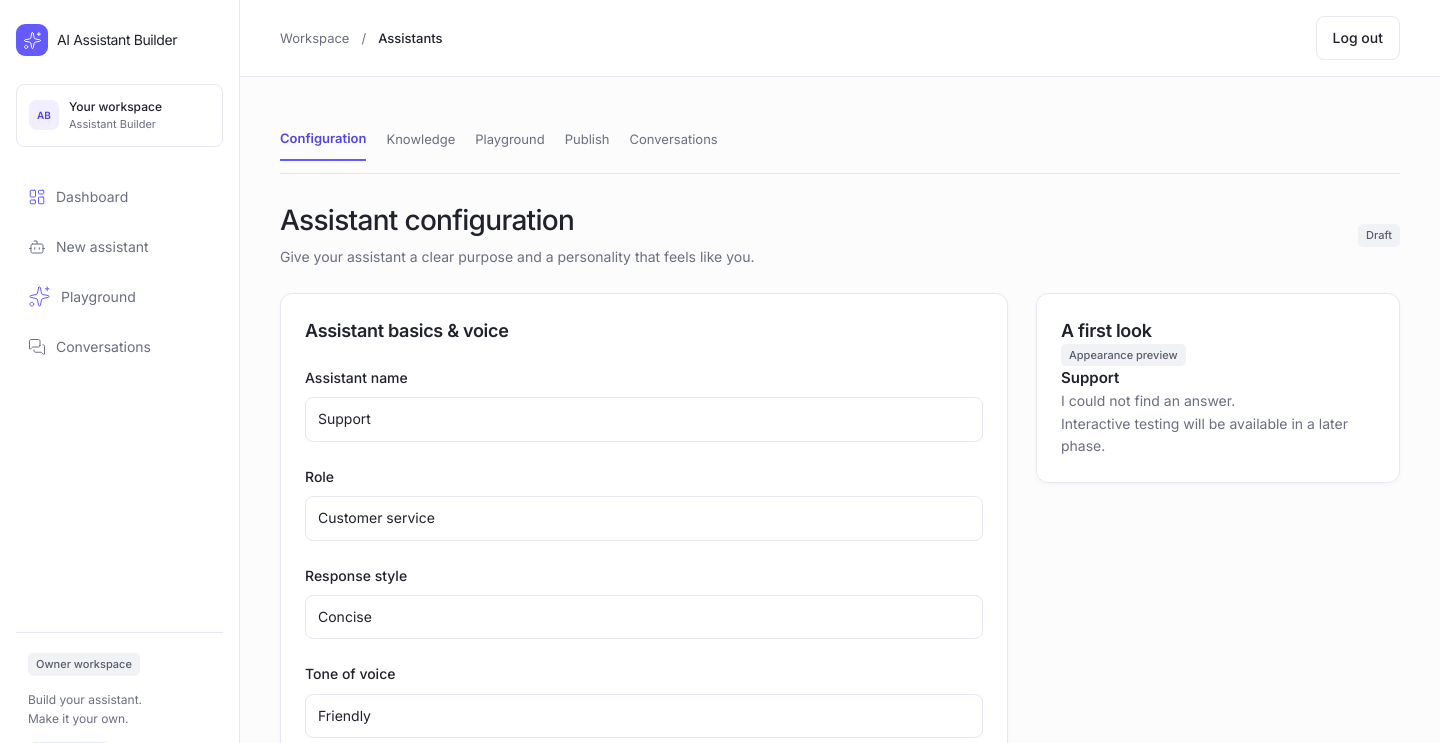
Test: UI-02 shell routes › preserves assistant route context when changing sections
Click the link "Knowledge": (421, 139) [386,131,455,147]
(page scrolled)
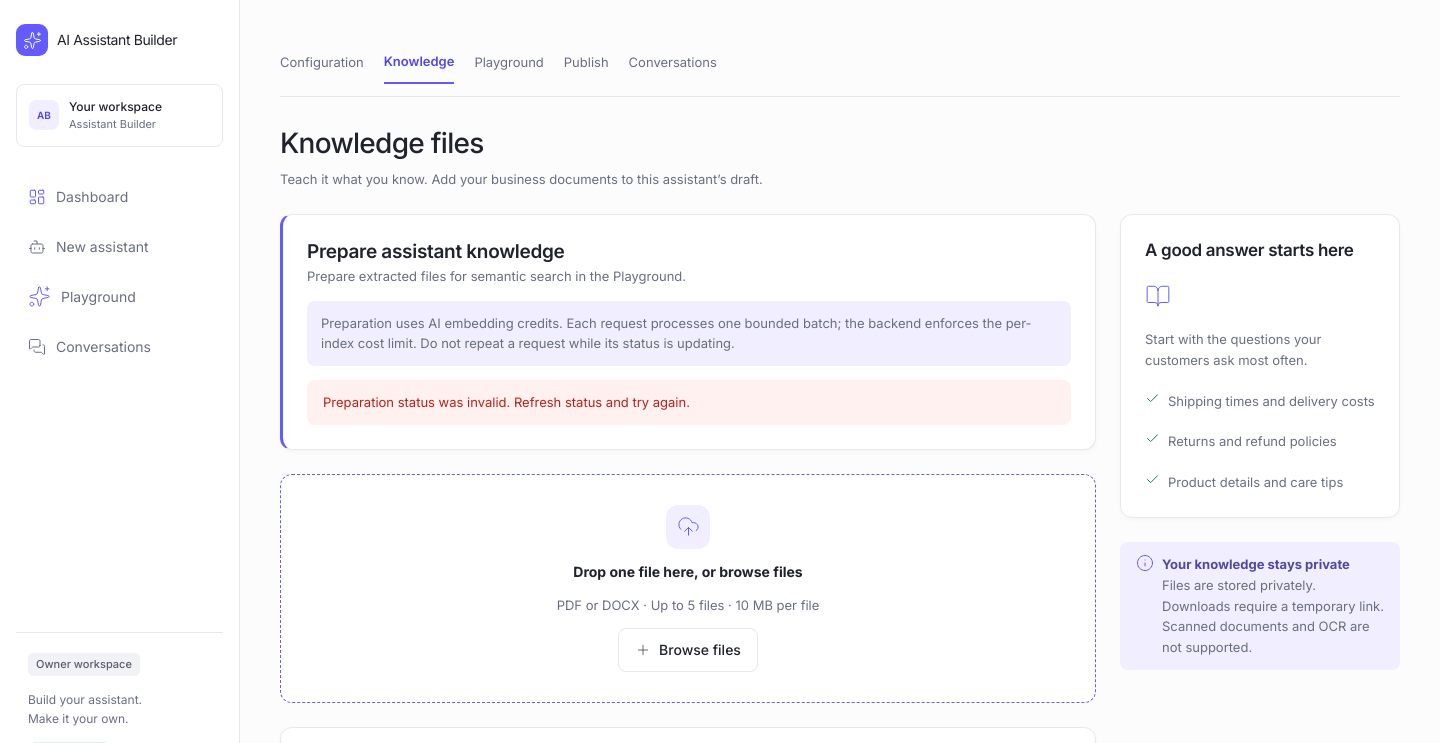
Expected: the heading "Knowledge files" is shown, [280,126,484,160]
